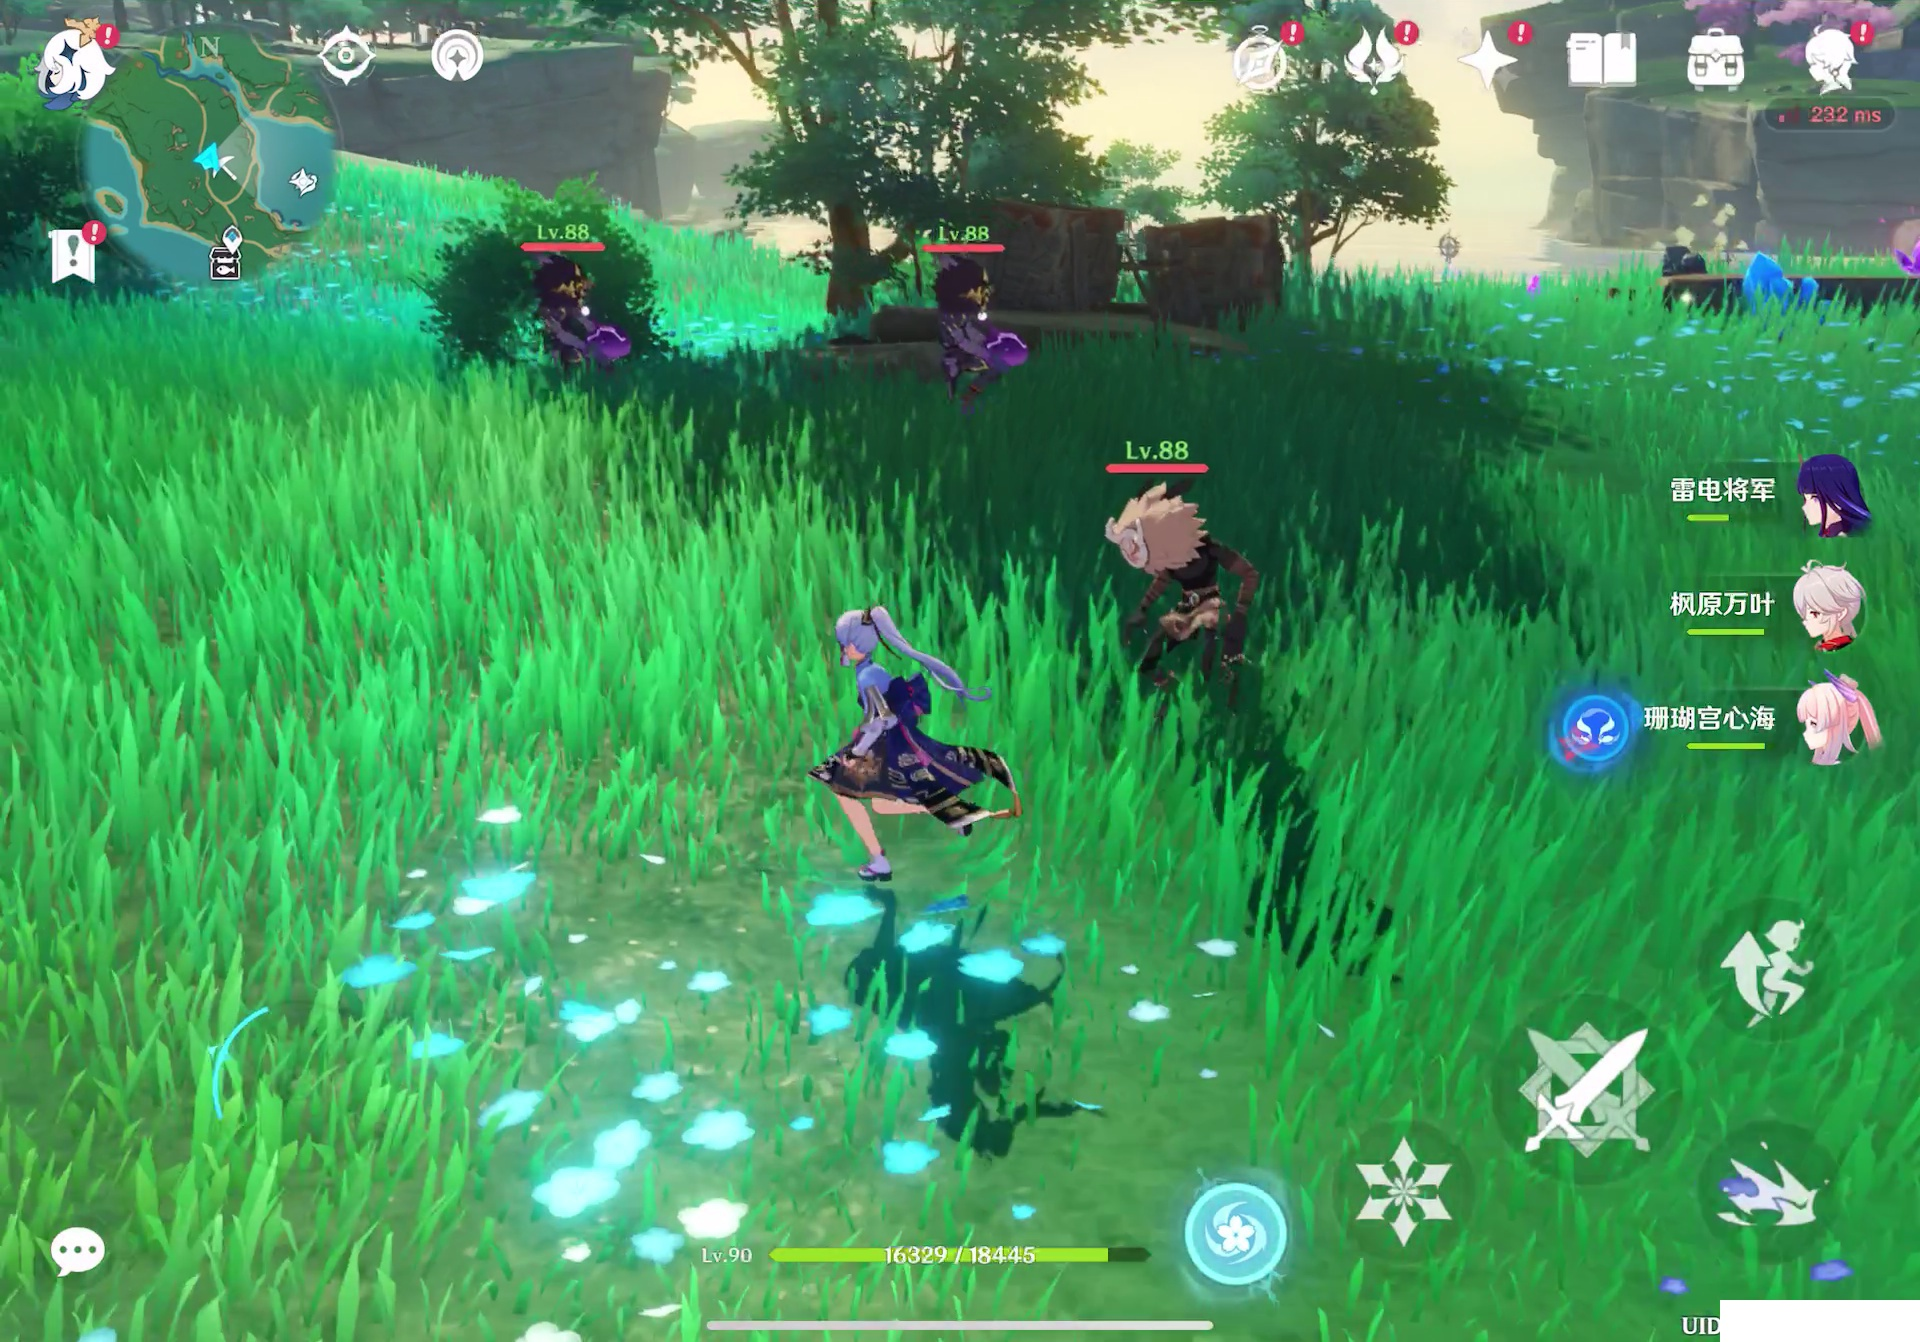丘丘人: (1107, 483, 1309, 678), (913, 252, 1026, 407), (521, 252, 642, 392)
神里绫龟: (810, 597, 1021, 907)
